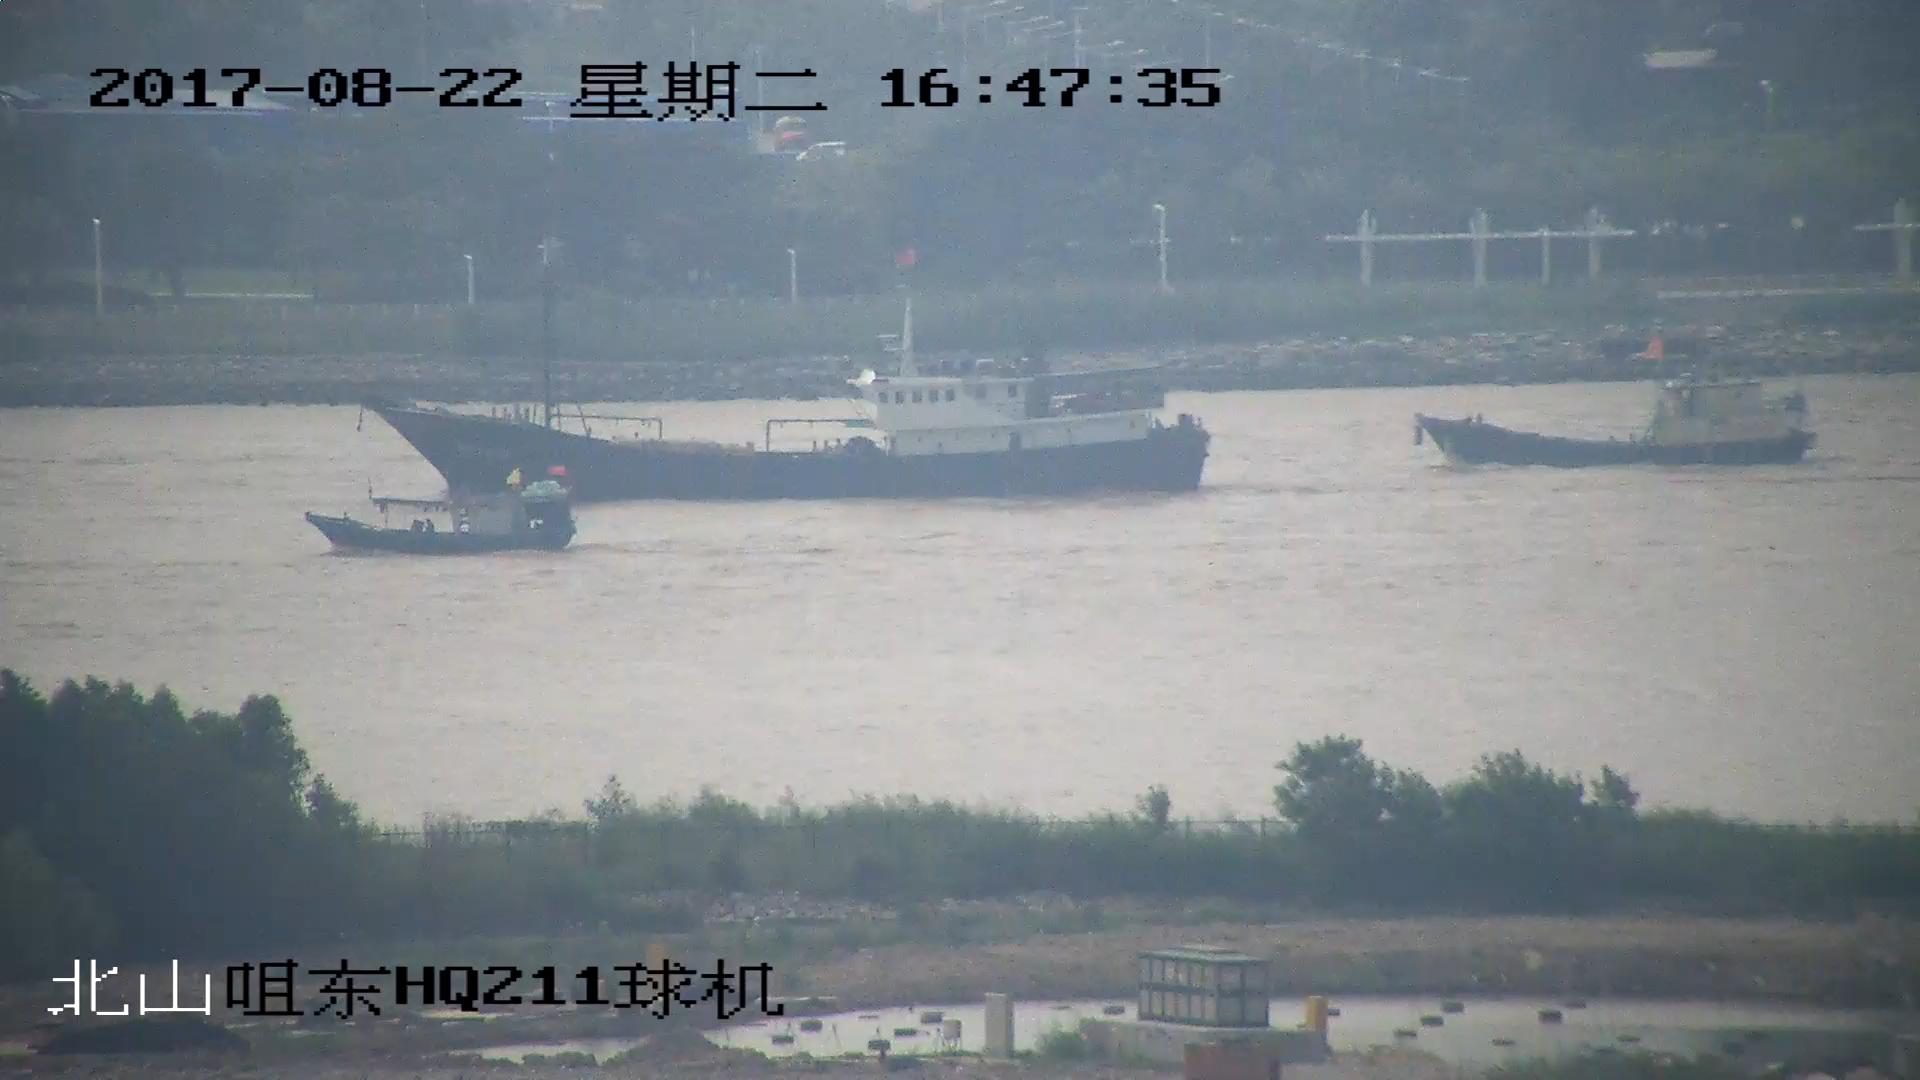fishing boat: (365, 250, 1208, 499), (1419, 339, 1816, 471), (308, 467, 578, 550)
